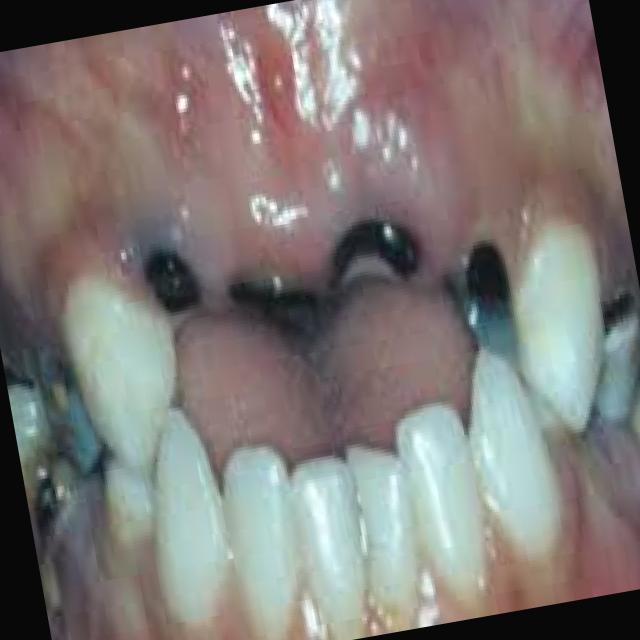caries: (446, 230, 532, 372), (229, 250, 336, 358), (326, 200, 432, 308), (128, 213, 218, 336)
